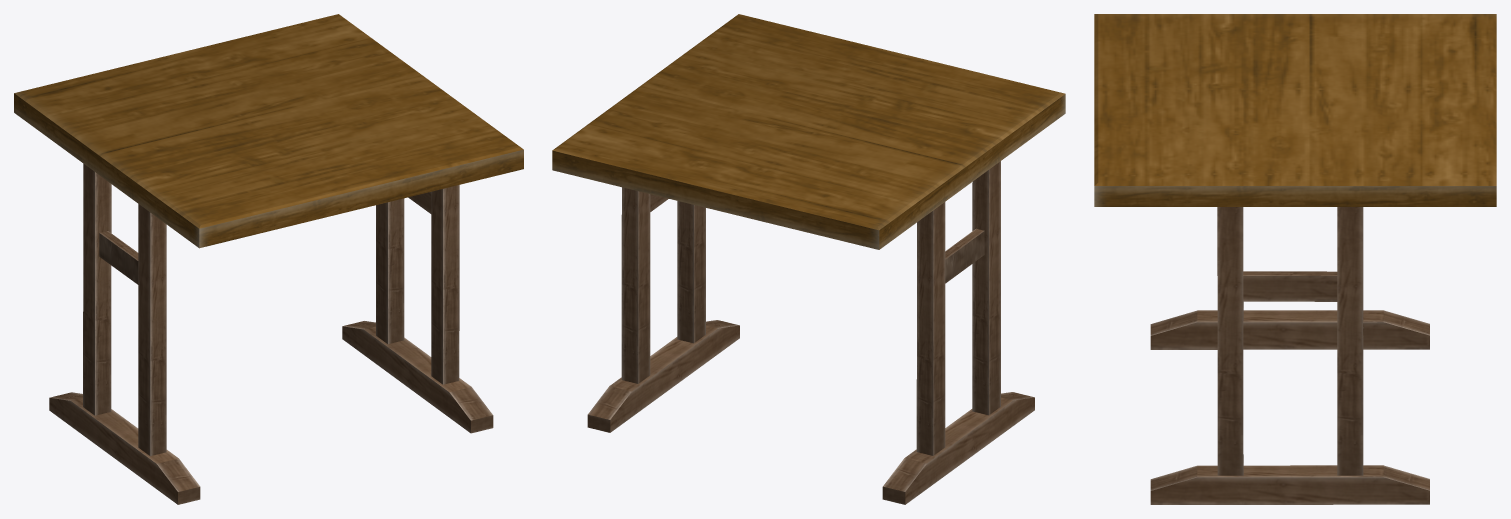
File: table01b.fbx
3 renders of one model, left to right at view 1: azimuth 30°, elevation 25°; view 2: azimuth 150°, elevation 25°; view 3: azimuth 270°, elevation 25°, orthographic. The views are drawn at different scales.
Parts seen in each view (by area): view 1: table01b; view 2: table01b; view 3: table01b.
Part boxes in pixels (x1=…): table01b: x1=14, y1=14, x2=523, y2=504; table01b: x1=552, y1=14, x2=1065, y2=504; table01b: x1=1094, y1=14, x2=1496, y2=504.
Size of the model in its own units: 103 by 89.9 by 101.
